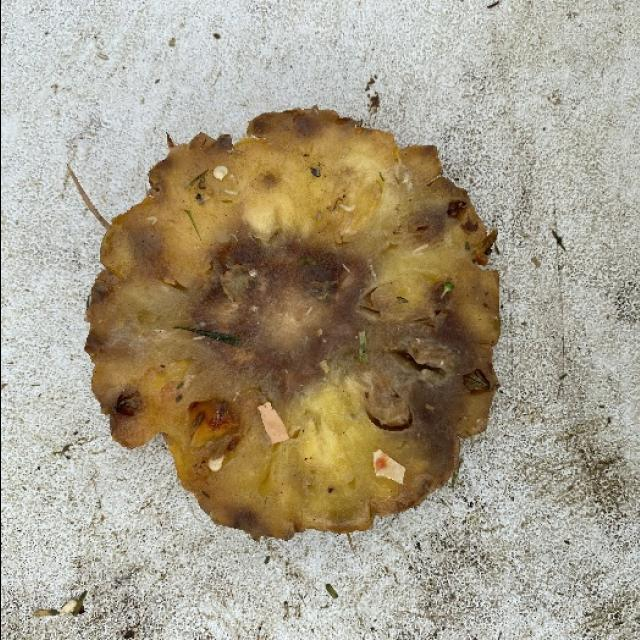organik: (84, 102, 504, 548)
